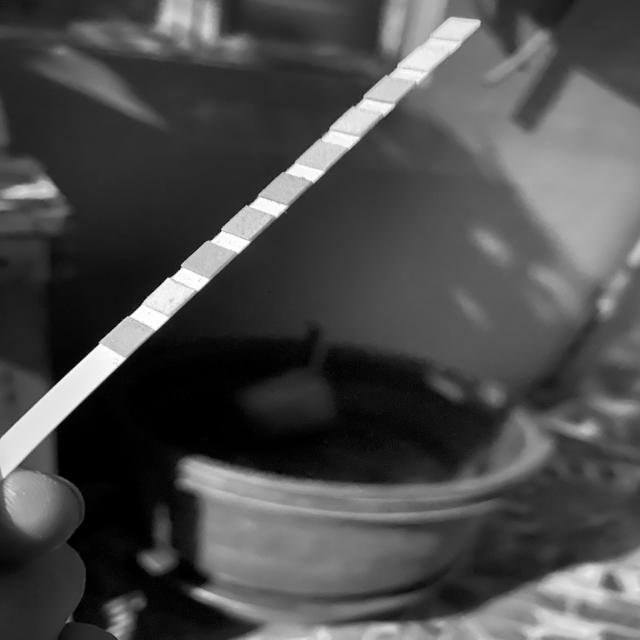Bilirubin: (156, 288, 182, 304)
Blood: (272, 181, 298, 195)
Glucose: (113, 328, 140, 346)
Ketone: (195, 252, 221, 267)
Leukocytes: (442, 24, 467, 35)
Nitrite: (412, 52, 436, 64)
Protein: (342, 114, 369, 127)
SpGravity: (234, 215, 261, 230)
Urobilinogen: (376, 84, 403, 95)
background: (0, 0, 640, 640)
pH: (308, 149, 332, 162)
strip: (1, 17, 482, 484)
